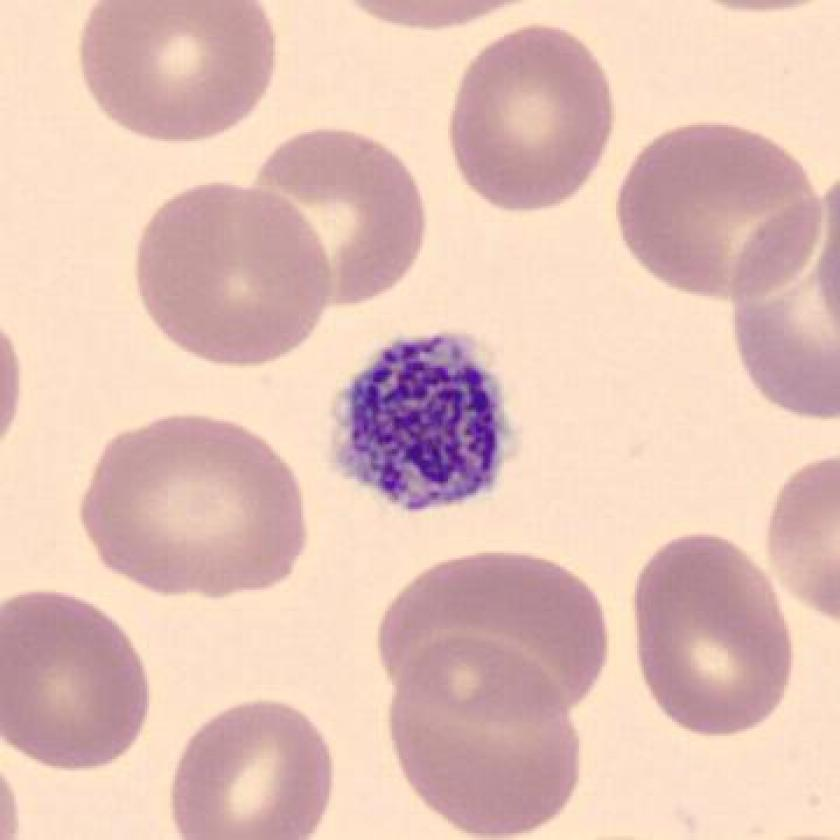platelets: (328, 332, 521, 519)
